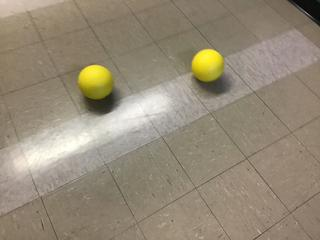power_cell: (77, 64, 116, 101), (188, 46, 227, 83)
